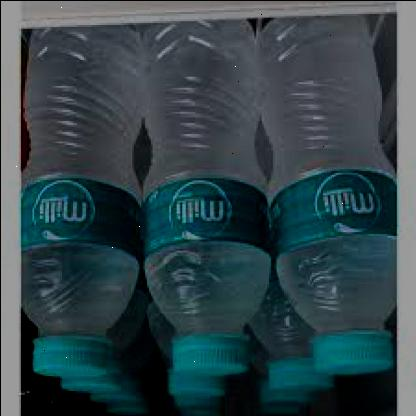Plastic Bottle: (20, 12, 398, 414), (258, 14, 398, 376), (141, 20, 271, 376), (21, 26, 143, 378), (248, 246, 334, 392), (146, 296, 226, 414)
